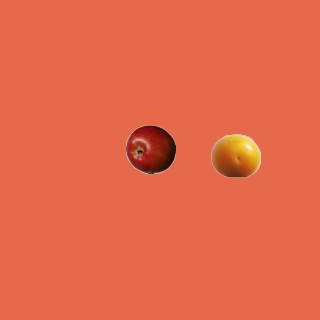Apple Braeburn: (125, 124, 175, 174)
Cherry Wax Yellow: (210, 130, 260, 180)
